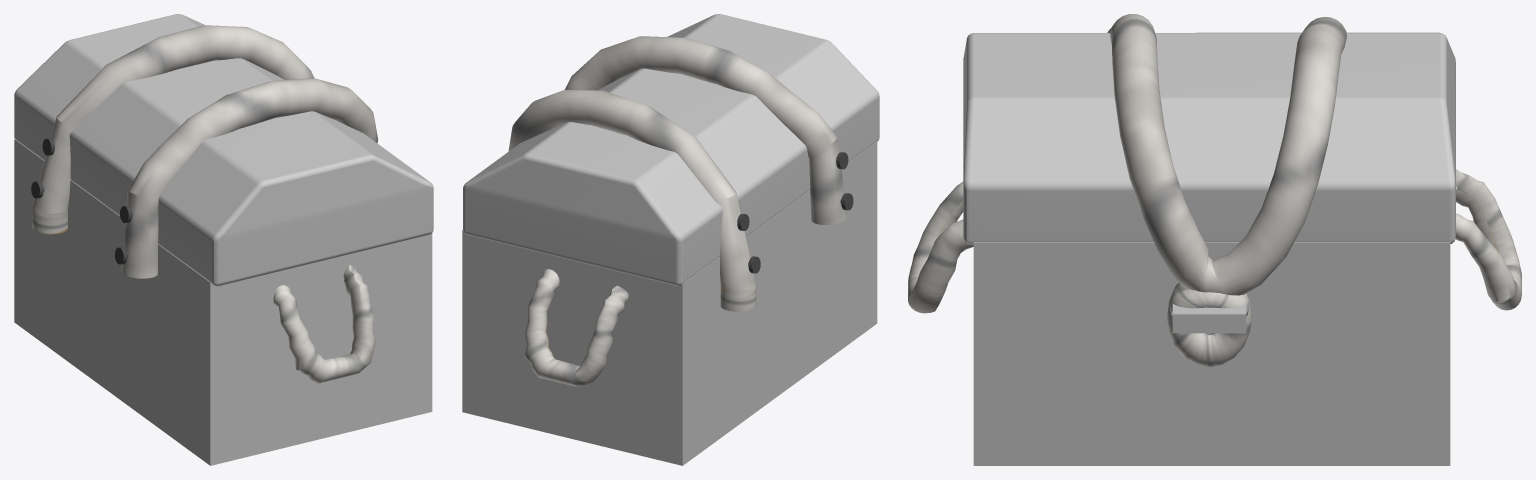
The model's file is Wooden Chest_Updated.fbx.
The picture shows the model from 3 angles, left to right: view 1: azimuth 30°, elevation 25°; view 2: azimuth 150°, elevation 25°; view 3: azimuth 270°, elevation 25°; orthographic projection. The views are drawn at different scales.
Visible parts, largest first — view 1: pTorus3, pCube29; view 2: pTorus3, pCube29; view 3: pTorus3, pCube29.
Part boxes in pixels (x1,y1,x2,y2): pTorus3: [14, 14, 433, 286]; pCube29: [14, 139, 432, 465]; pTorus3: [463, 14, 879, 311]; pCube29: [462, 141, 877, 465]; pTorus3: [963, 14, 1455, 366]; pCube29: [908, 169, 1521, 465].
Bounding box in the file's own units: 68.55 × 68.23 × 103.
